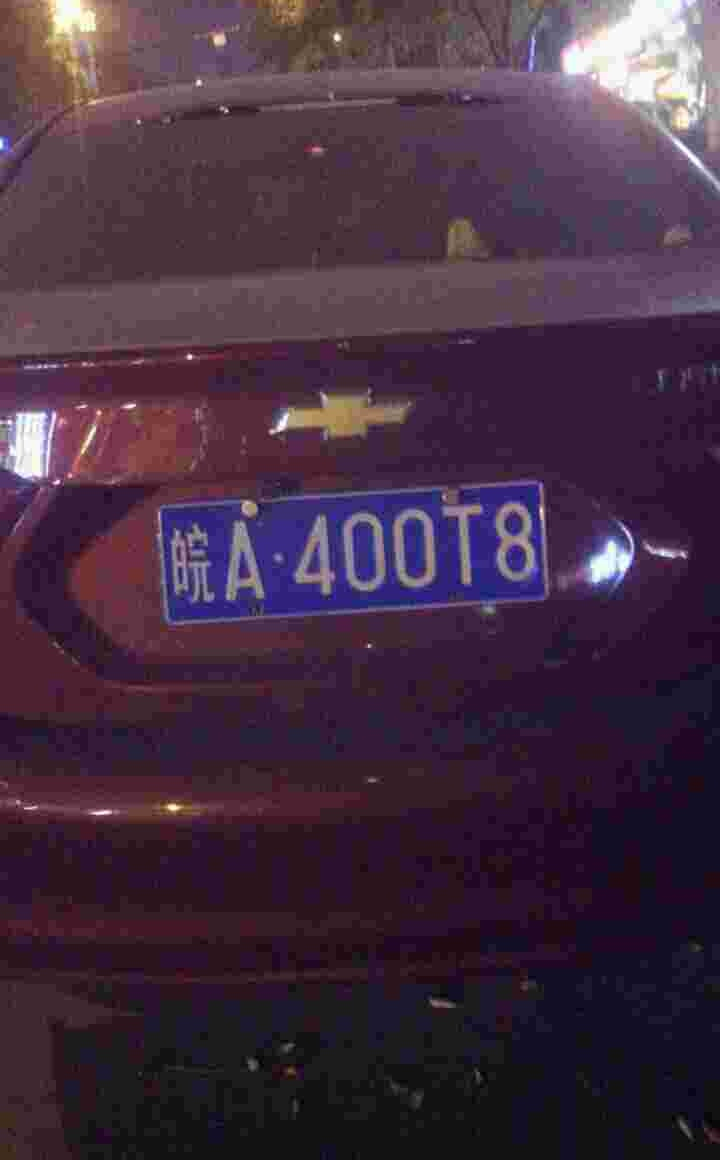license_plate: (170, 479, 557, 625)
